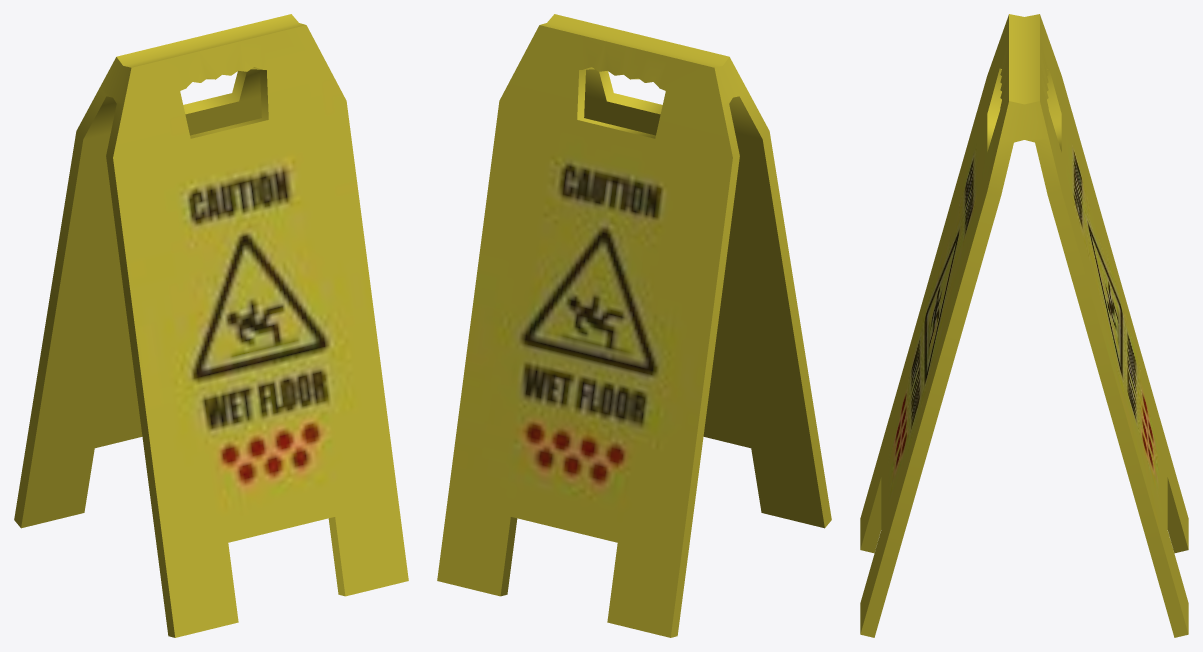
The model's file is wet_floor_sign.glb.
3 renders of one model, left to right at view 1: azimuth 30°, elevation 25°; view 2: azimuth 150°, elevation 25°; view 3: azimuth 270°, elevation 25°, orthographic.
Parts seen in each view (by area): view 1: WetFloorSign_01; view 2: WetFloorSign_01; view 3: WetFloorSign_01.
Boxes of the visible parts, left/top/right/bottom form: WetFloorSign_01: left=14, top=14, right=408, bottom=637; WetFloorSign_01: left=437, top=14, right=831, bottom=637; WetFloorSign_01: left=860, top=14, right=1188, bottom=637.
Bounding box in the file's own units: 0.3001 × 0.6295 × 0.3585.
Materials: 1 (1 with a texture image).
